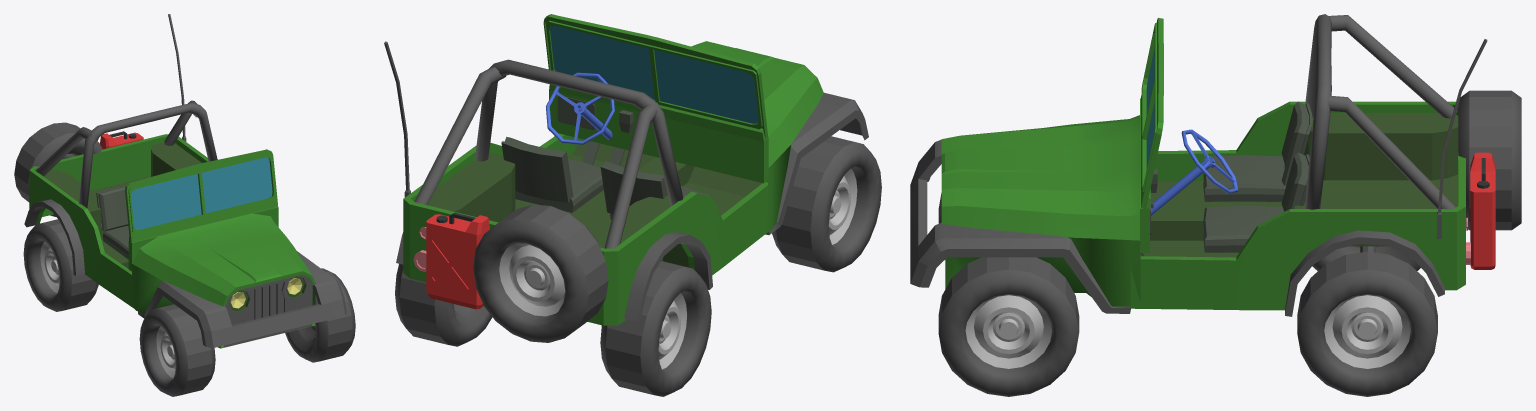
The model's file is jeep.fbx.
3 views of the same model, side by side, from view 1: azimuth 30°, elevation 25°; view 2: azimuth 150°, elevation 25°; view 3: azimuth 270°, elevation 25° (orthographic). The views are drawn at different scales.
Visible parts, largest first — view 1: jeep, wheels_1, wheels_2; view 2: jeep, wheels_2, wheels_1; view 3: jeep, wheels_2, wheels_1.
Boxes of the visible parts, x1=… form: jeep: x1=14, y1=14, x2=346, y2=348; wheels_1: x1=139, y1=268, x2=355, y2=396; wheels_2: x1=23, y1=219, x2=98, y2=311; jeep: x1=384, y1=14, x2=868, y2=342; wheels_2: x1=395, y1=261, x2=711, y2=396; wheels_1: x1=772, y1=136, x2=881, y2=272; jeep: x1=910, y1=14, x2=1521, y2=316; wheels_2: x1=1297, y1=246, x2=1437, y2=396; wheels_1: x1=938, y1=193, x2=1079, y2=396.
Bounding box in the file's own units: 400 × 498 × 782.
